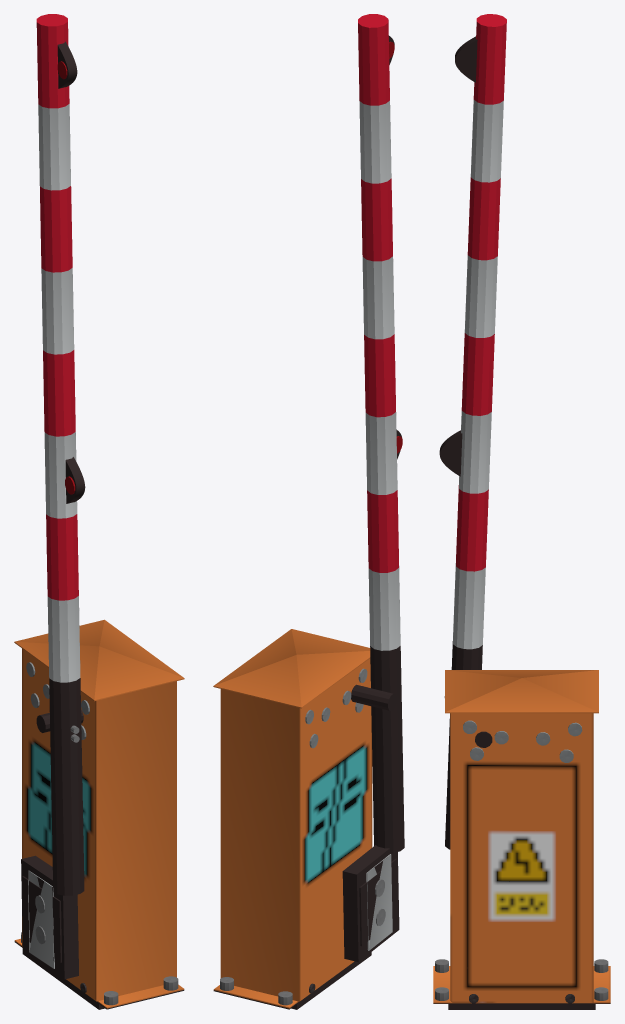
Rendered from rhr-95_2m_lewo.obj.
The picture shows the model from 3 angles, left to right: view 1: azimuth 30°, elevation 25°; view 2: azimuth 150°, elevation 25°; view 3: azimuth 270°, elevation 25°; orthographic projection. The views are drawn at different scales.
Parts seen in each view (by area): view 1: cuboid, cylinder; view 2: cuboid, cylinder; view 3: cuboid, cylinder.
Boxes of the visible parts, left/top/right/bottom form: cuboid: left=14, top=619, right=184, bottom=1009; cylinder: left=21, top=14, right=85, bottom=979; cuboid: left=213, top=629, right=372, bottom=1009; cylinder: left=342, top=14, right=404, bottom=962; cuboid: left=433, top=670, right=610, bottom=1009; cylinder: left=439, top=14, right=506, bottom=849.
Bounding box in the file's own units: 0.3991 × 3.03 × 0.5156.
1 material, 1 textured.
